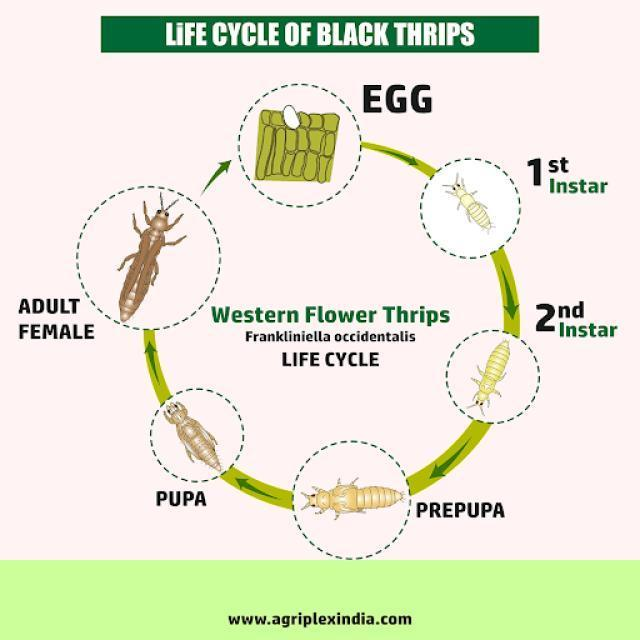Thrips: (104, 188, 200, 333)
